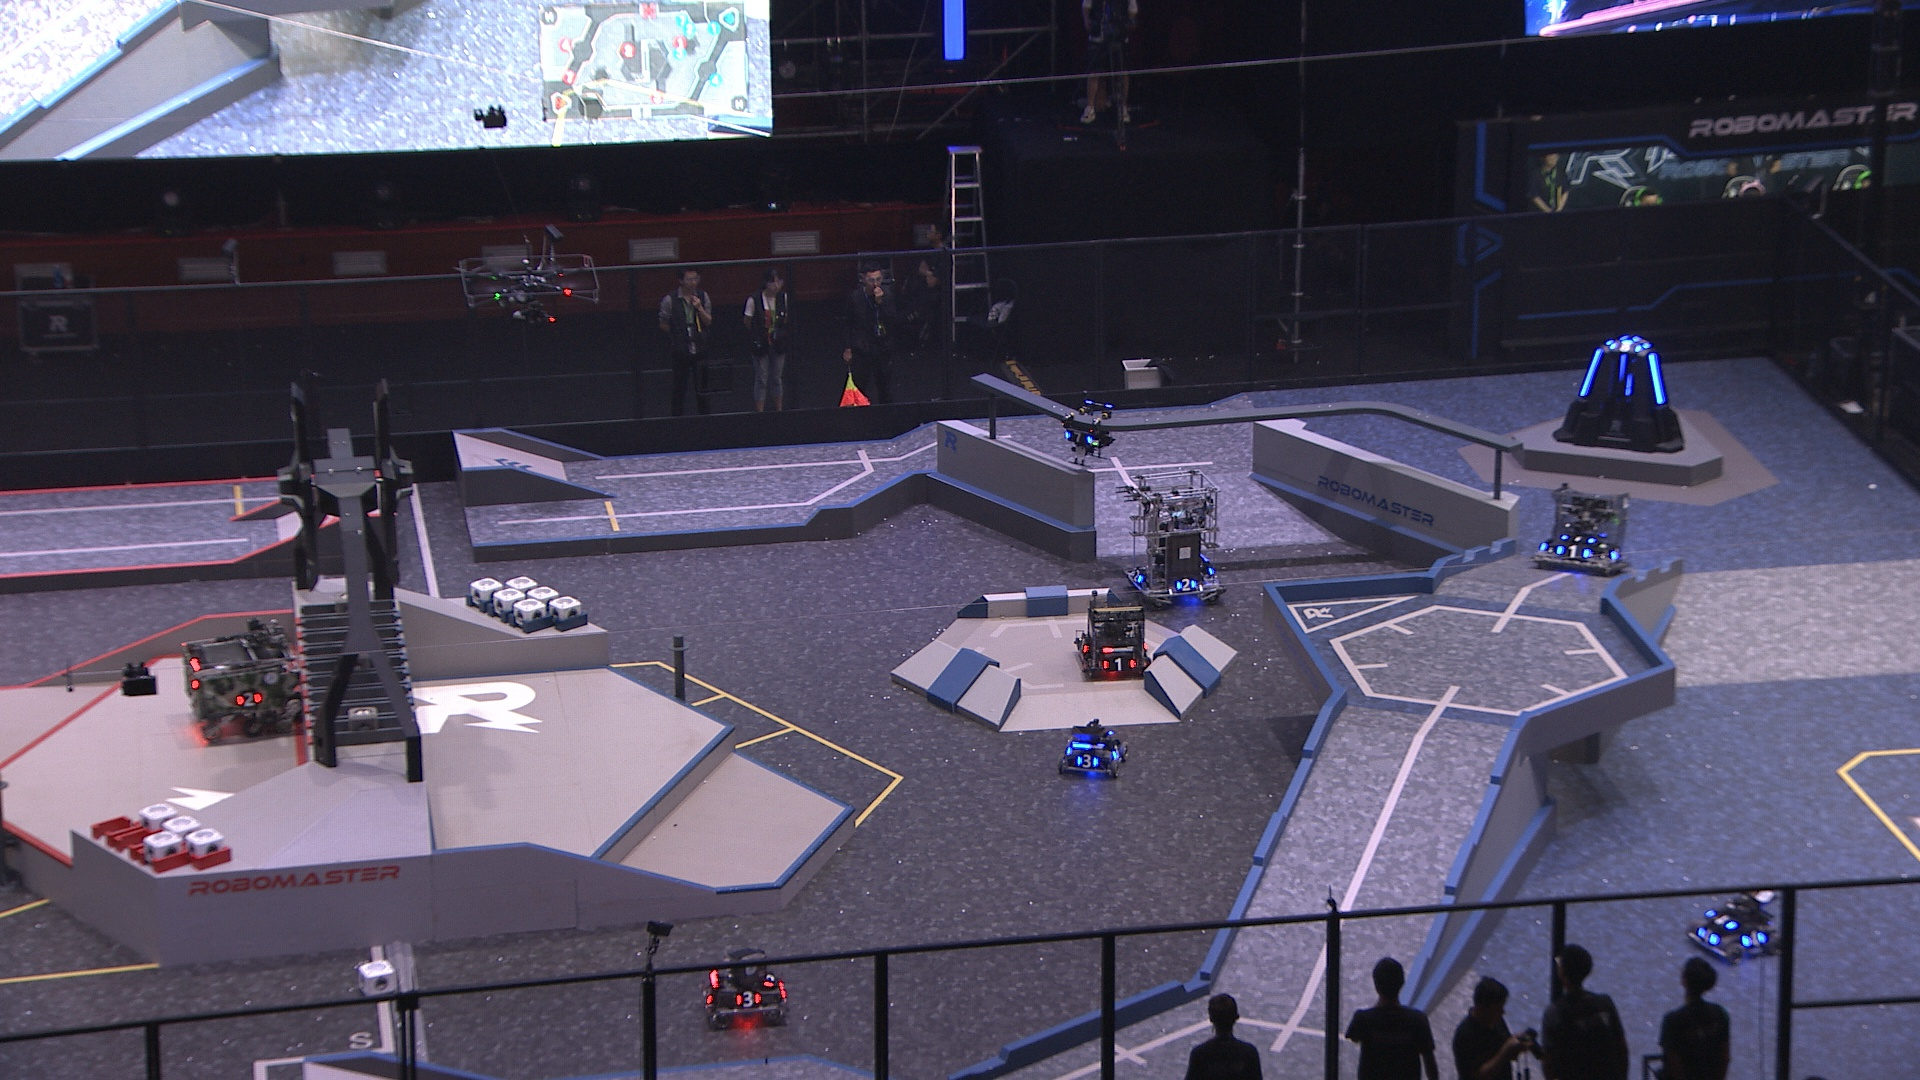armor: (1575, 344, 1605, 400), (1643, 349, 1667, 405), (1552, 543, 1594, 560), (1706, 907, 1738, 930), (1101, 655, 1138, 674), (1695, 922, 1724, 944), (1060, 429, 1095, 447), (1609, 338, 1642, 356), (233, 688, 264, 708), (733, 988, 760, 1010), (1741, 930, 1768, 949), (1557, 531, 1598, 545), (1172, 576, 1200, 593), (1076, 752, 1101, 770), (1621, 373, 1636, 400), (760, 969, 778, 989), (700, 982, 713, 1010), (1076, 632, 1091, 655), (1617, 353, 1629, 382), (1634, 334, 1652, 351), (1607, 542, 1623, 560), (1130, 566, 1145, 585), (1112, 741, 1125, 761)
base: (1548, 330, 1687, 456)
car: (175, 621, 305, 744), (1120, 467, 1229, 604), (1532, 477, 1638, 576), (695, 943, 789, 1035), (1684, 887, 1789, 965), (1072, 588, 1153, 679), (1055, 713, 1126, 783)
watcher: (1058, 385, 1116, 465)
